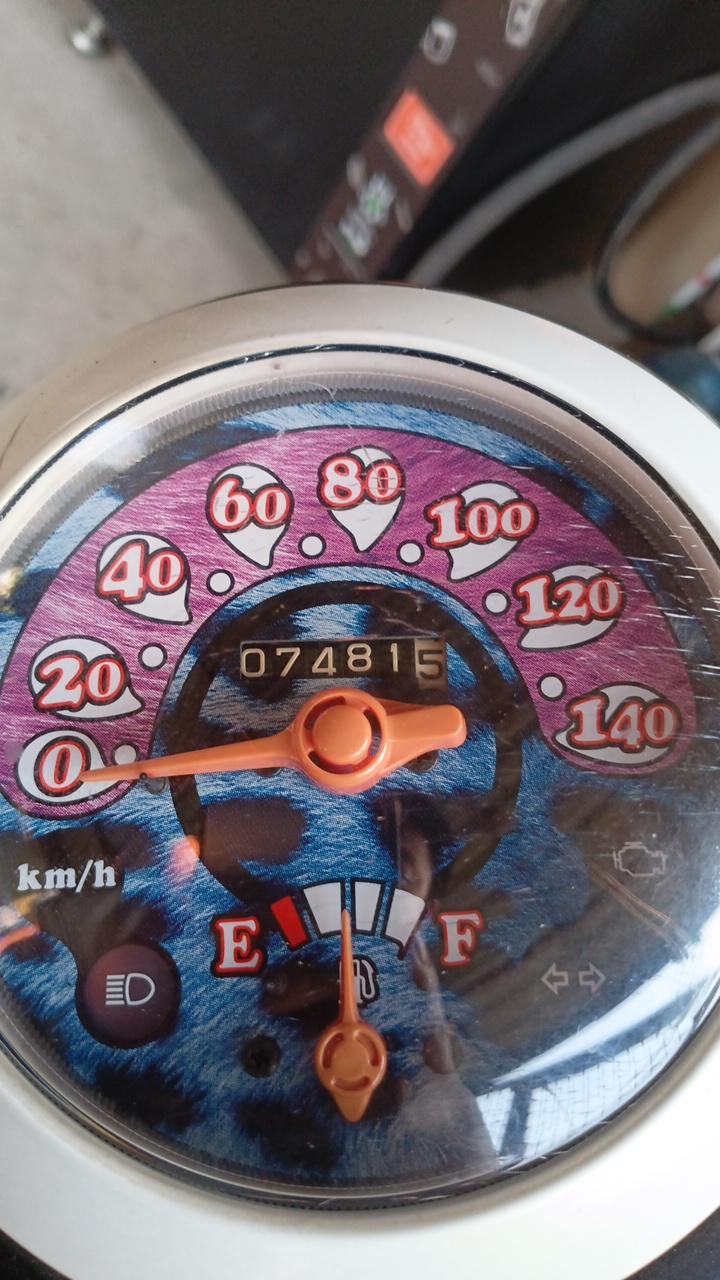0: (241, 647, 266, 678)
1: (387, 642, 402, 676)
4: (312, 646, 337, 678)
5: (416, 646, 446, 680)
7: (275, 646, 302, 678)
8: (345, 643, 372, 673)
odometer: (237, 637, 452, 695)
